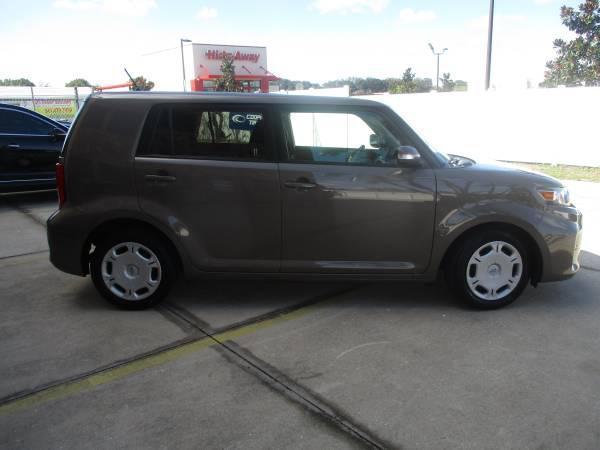Front_Bumper: (534, 208, 585, 286)
Front_Fender: (430, 167, 563, 277)
Front_Right_Door: (280, 162, 437, 277)
Front_Right_Window: (279, 100, 438, 165)
Rear_Bumper: (47, 211, 91, 278)
Rear_Fender: (59, 155, 143, 224)
Rear_Right_Door: (136, 157, 285, 273)
Rear_Right_Window: (136, 100, 279, 158)
Right_Headlight: (537, 188, 574, 209)
Roof: (63, 84, 446, 162)
Wheel: (453, 229, 532, 310), (95, 222, 174, 303)
